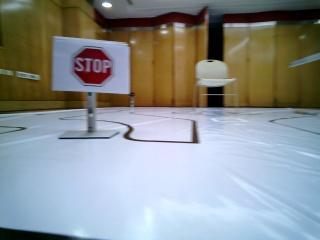stop: (59, 36, 128, 92)
